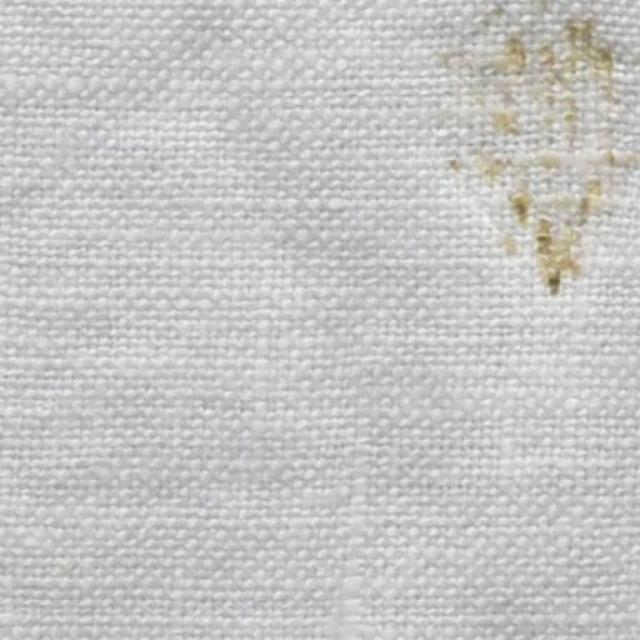Stain: (425, 2, 639, 289)
